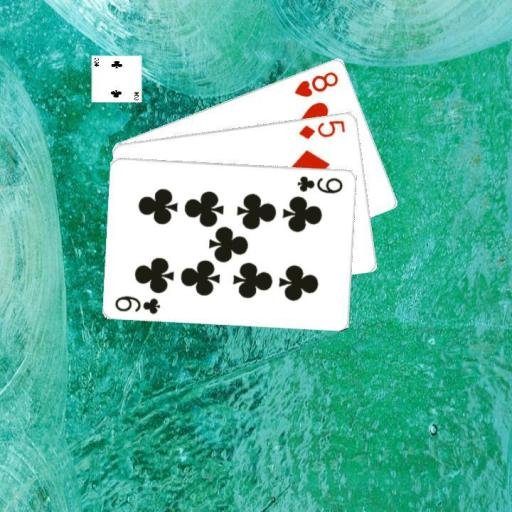5D: (296, 117, 347, 141)
8H: (291, 67, 340, 99)
9C: (294, 172, 345, 195), (112, 292, 162, 315)
